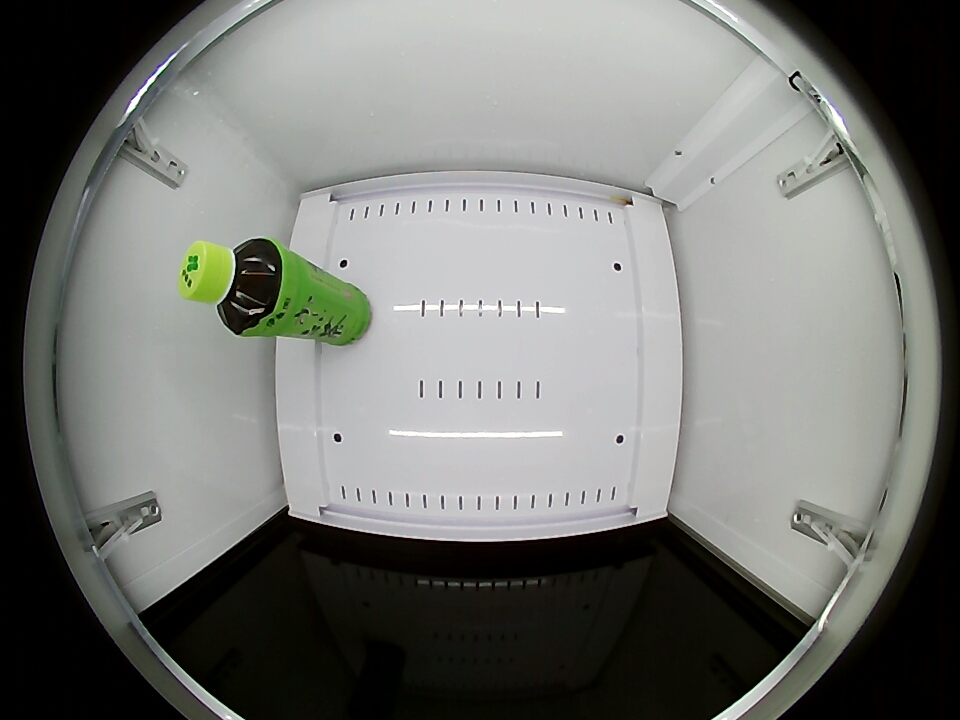yitengyuan: (180, 237, 288, 336)
